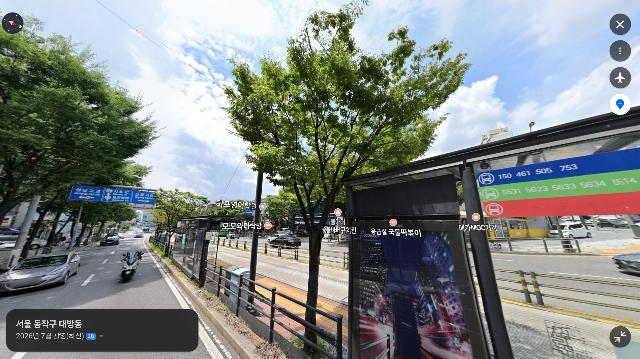other: (219, 0, 473, 354), (0, 13, 162, 261), (150, 187, 207, 254)
